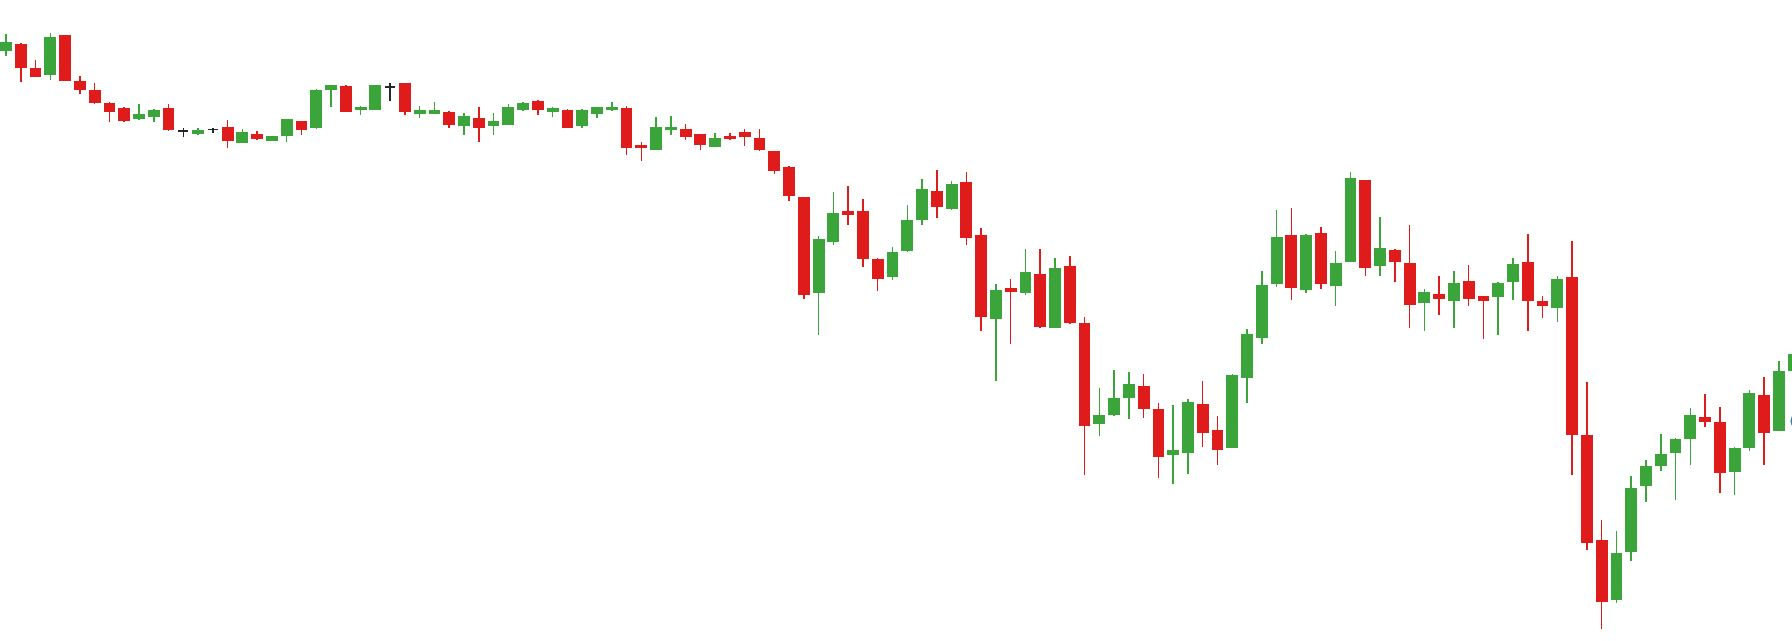buy: (1078, 388, 1197, 486)
sell: (826, 171, 947, 254)
